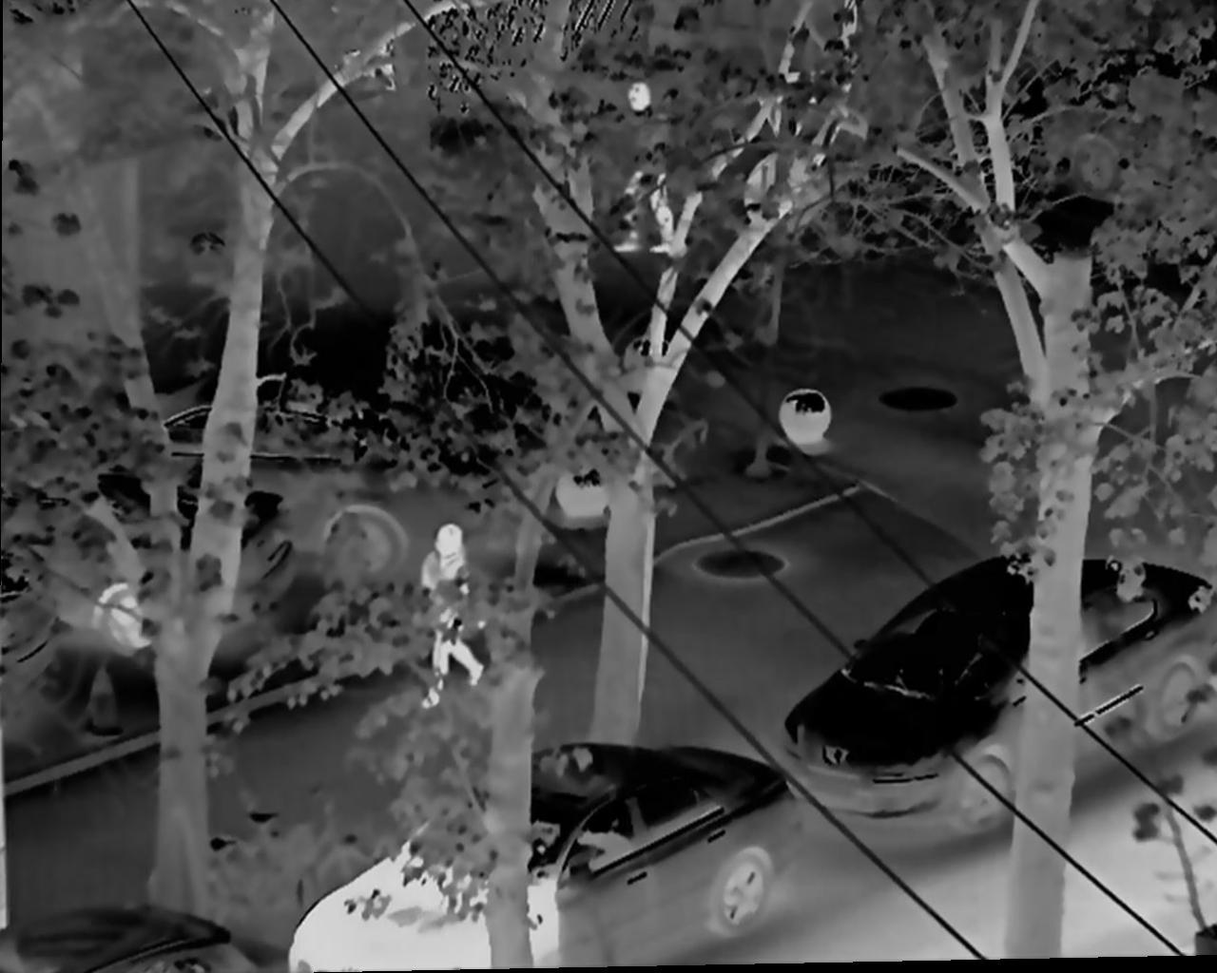person: (422, 525, 482, 715), (615, 86, 680, 258)
